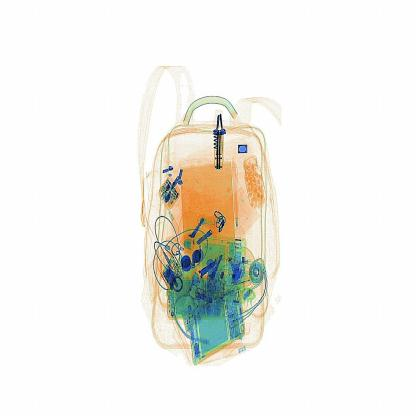scissors: (206, 124, 233, 180)
